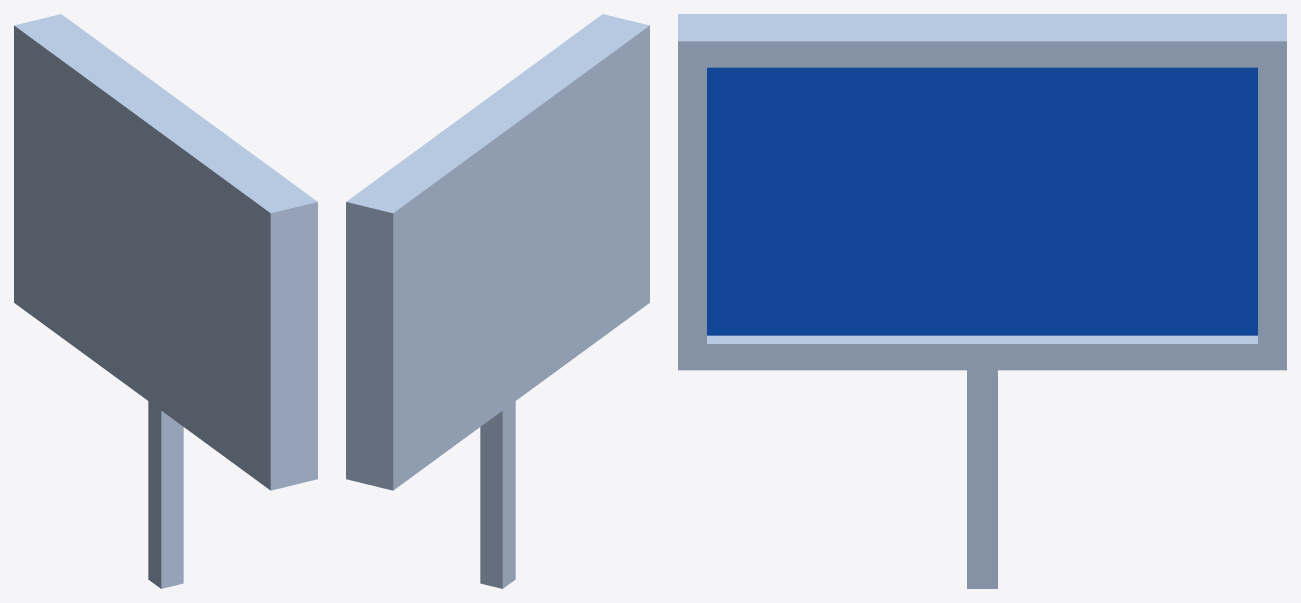
Rendered from Screen.fbx.
The picture shows the model from 3 angles, left to right: view 1: azimuth 30°, elevation 25°; view 2: azimuth 150°, elevation 25°; view 3: azimuth 270°, elevation 25°; orthographic projection. The views are drawn at different scales.
Visible parts, largest first — view 1: Screen; view 2: Screen; view 3: Screen.
Part boxes in pixels (x1,y1,x2,y2): Screen: (14,14,317,588); Screen: (346,14,649,588); Screen: (678,14,1286,588).
Bounding box in the file's own units: 3.55 × 33.74 × 33.55.
Materials: 1 (1 with a texture image).
